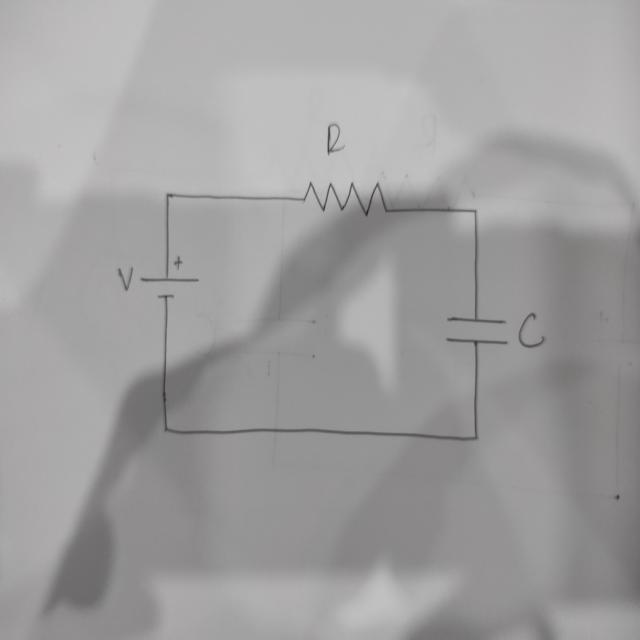capacitor: (443, 311, 510, 349)
junction: (162, 189, 174, 202), (470, 203, 480, 217), (470, 431, 480, 444), (160, 422, 170, 435)
resistor: (300, 178, 387, 218)
source: (138, 253, 200, 300)
text: (517, 312, 546, 348), (324, 119, 346, 156), (116, 264, 134, 292)
